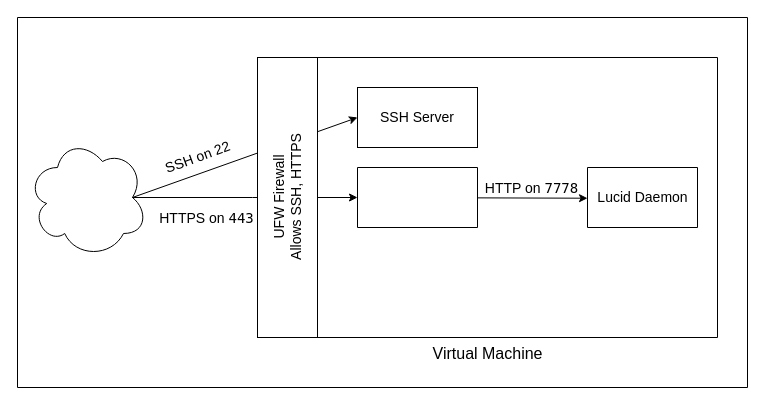
Image size: 765x405. Some labels were removed from this diagram. The centre of each missing label's shape, as x and y in pixels:
Client: point (87, 197)
Nginx Reverse Proxy: point (417, 197)
